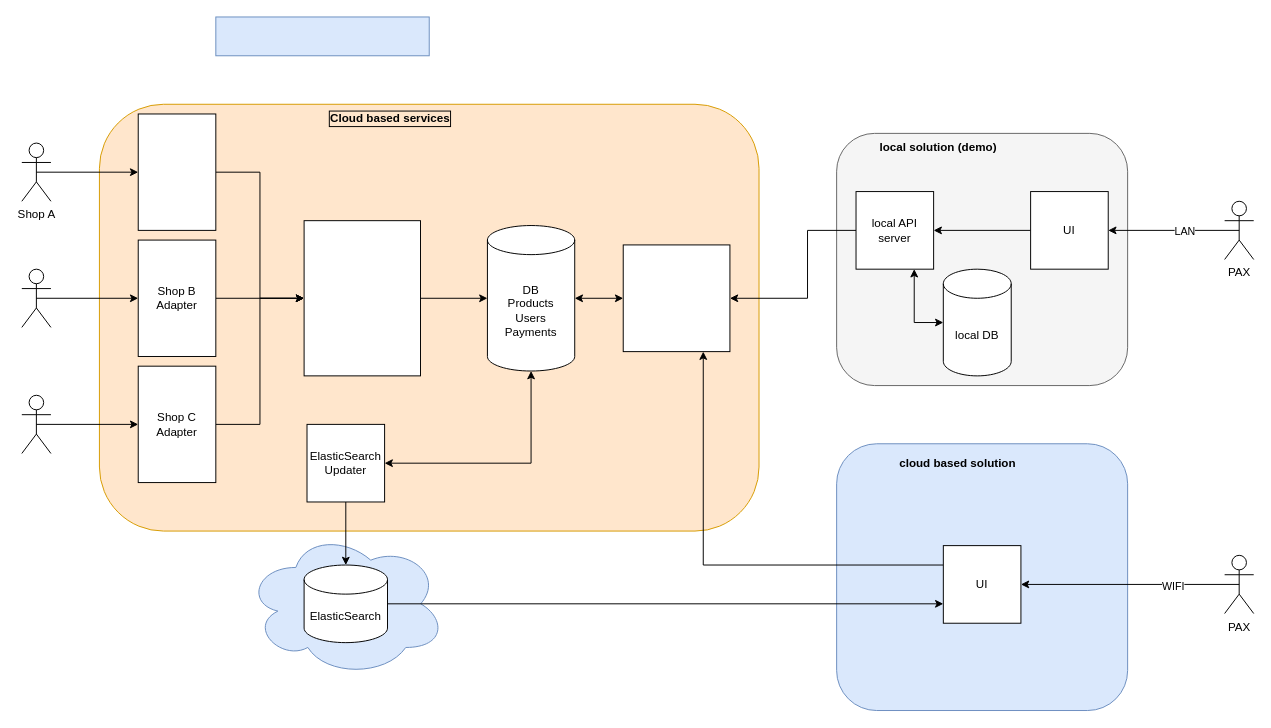
The diagram is 1271 pixels wide and 728 high, and some of its shapes have lost their labels. The shapes that lost their labels are listed below. From the top down, each one's centre as x and y in pixels, then its label:
At (x=322, y=36): "Application workflow".
At (x=176, y=171): "Shop A Adapter".
At (x=36, y=297): "Shop B".
At (x=361, y=298): "DB Sychronizer".
At (x=676, y=298): "Public API Server".
At (x=36, y=423): "Shop C".
